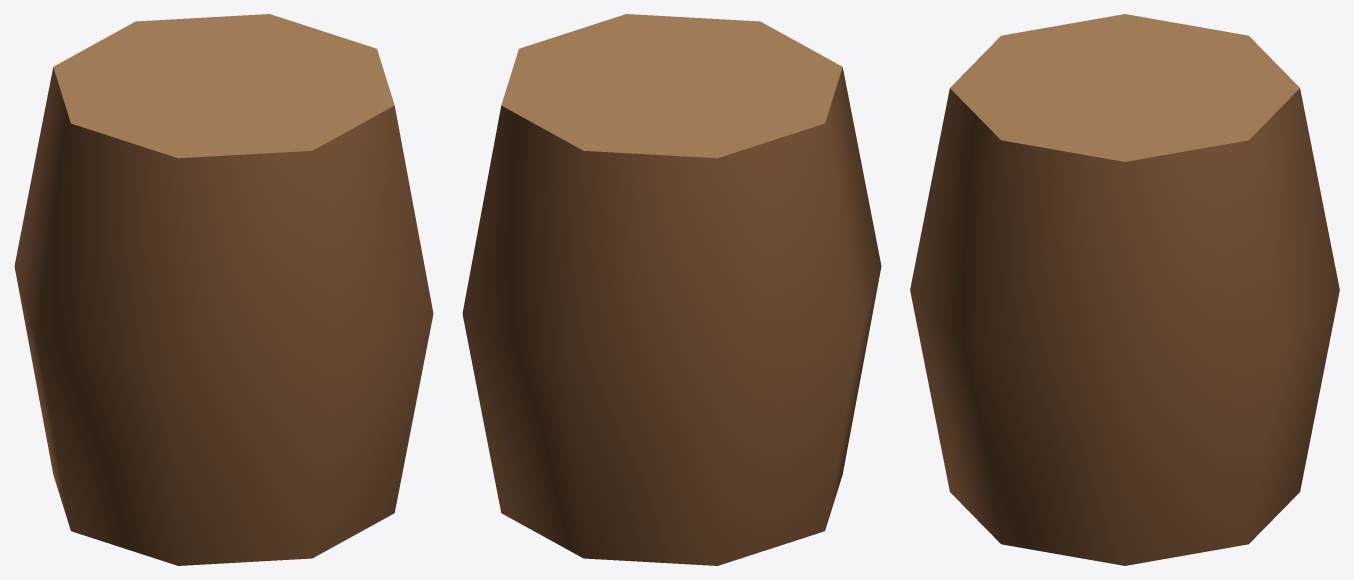
Rendered from barrel.fbx.
3 views of the same model, side by side, from view 1: azimuth 30°, elevation 25°; view 2: azimuth 150°, elevation 25°; view 3: azimuth 270°, elevation 25° (orthographic).
Visible parts, largest first — view 1: barrel; view 2: barrel; view 3: barrel.
Boxes of the visible parts, x1=… form: barrel: x1=14, y1=14, x2=433, y2=565; barrel: x1=462, y1=14, x2=881, y2=565; barrel: x1=910, y1=14, x2=1339, y2=565.
Size of the model in its own units: 0.054 by 0.056 by 0.054.
